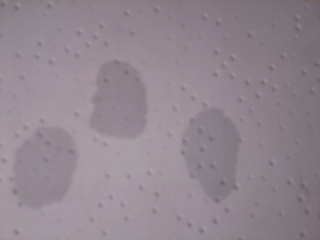Water_detected: (89, 71, 137, 134), (20, 132, 65, 190), (179, 126, 217, 177)
